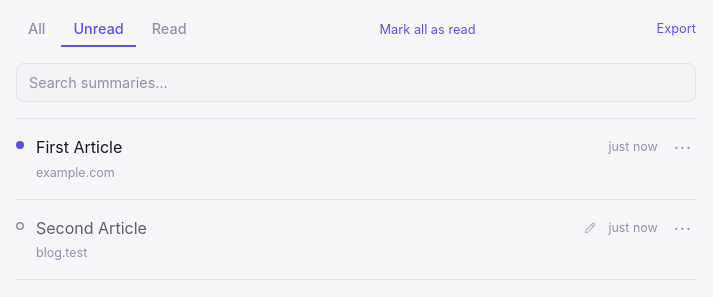
ReadingList › should clear search input
This screenshot has width=713, height=297.
Expected: the button "First Article" is shown, [36, 135, 596, 161]
Type "test" into the field with placeholder "Search summaries…" at (356,82), box [16, 63, 696, 102]
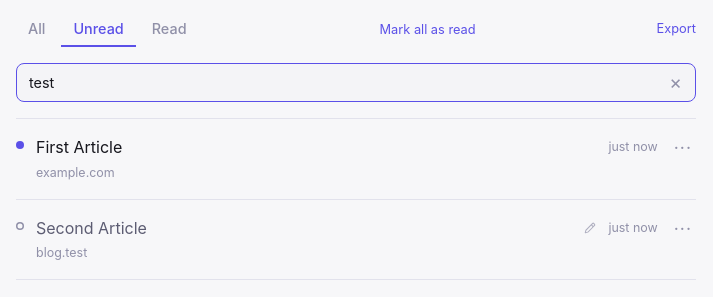
Click the button named "clear search" at (676,82), box [663, 71, 688, 94]
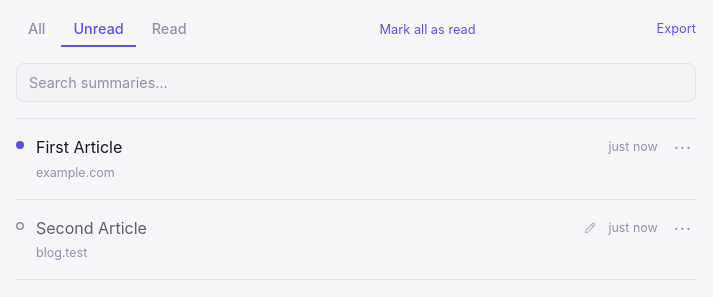
Expected: the field with placeholder "Search summaries…" is empty, [16, 63, 696, 102]
